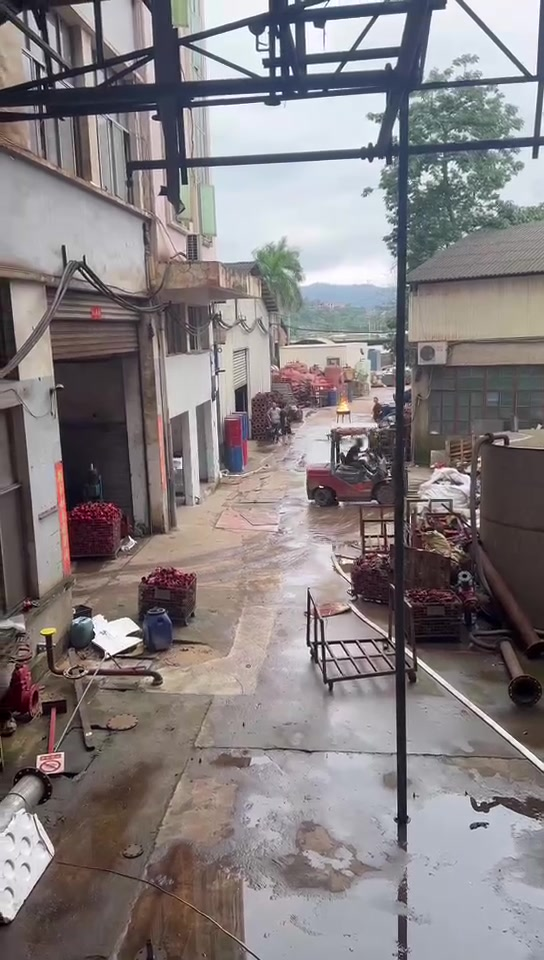fire: (335, 399, 349, 411)
